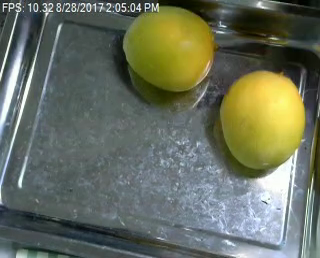Mango: (213, 68, 308, 167), (119, 5, 220, 92)
